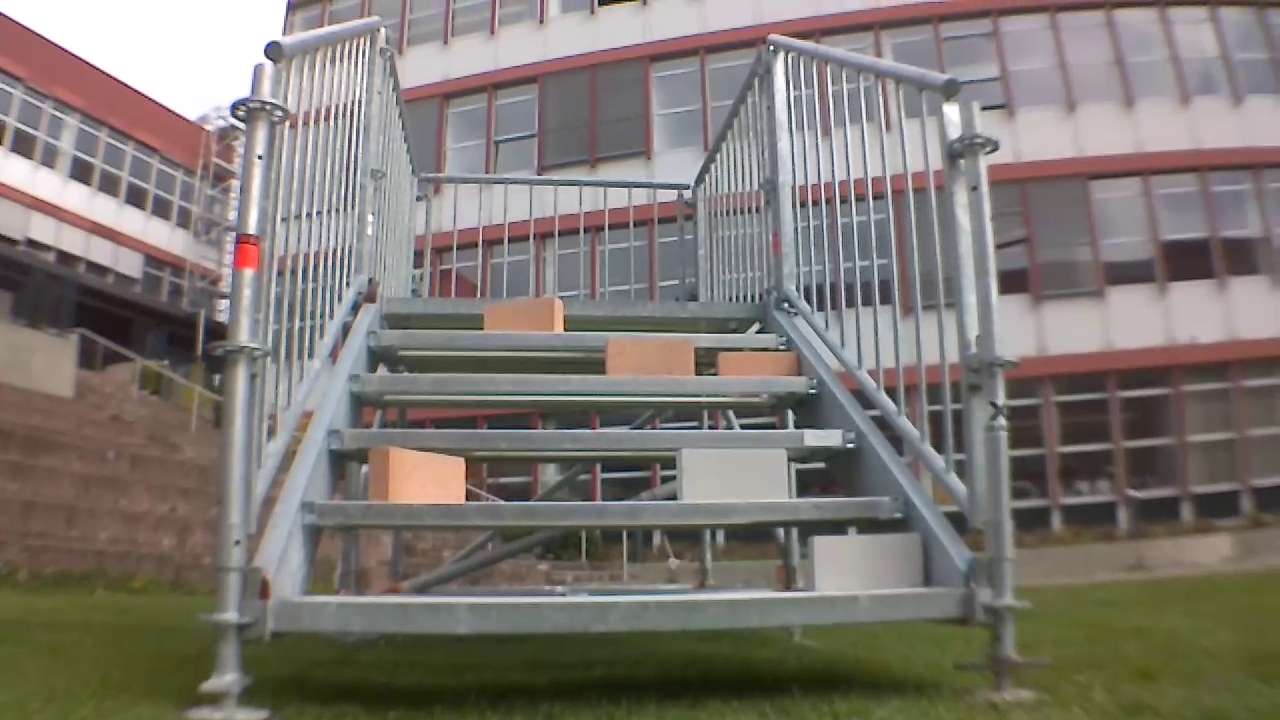brick: (806, 534, 923, 590), (677, 448, 789, 502), (369, 448, 465, 503), (606, 338, 693, 374), (484, 298, 562, 329), (718, 352, 798, 376)
edge: (272, 597, 965, 630), (299, 498, 903, 524), (329, 429, 858, 449), (347, 373, 819, 393), (383, 296, 765, 318), (367, 330, 791, 347)
stairs: (185, 15, 1049, 716)
steps: (263, 292, 970, 640)
